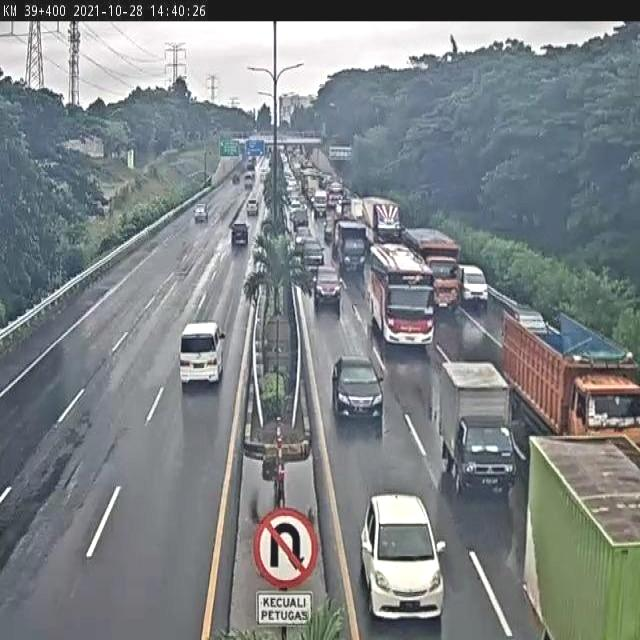Car: (358, 492, 444, 622), (323, 346, 395, 435), (457, 264, 488, 311), (314, 264, 342, 310), (230, 222, 248, 246)
Truck: (524, 437, 639, 638), (500, 309, 637, 462), (436, 360, 516, 497), (364, 241, 434, 348), (248, 444, 319, 546), (402, 228, 461, 310), (180, 320, 227, 384), (261, 315, 293, 381), (360, 197, 401, 245), (333, 218, 368, 274), (502, 296, 548, 338), (299, 234, 324, 272), (328, 128, 353, 161), (244, 436, 268, 461), (324, 101, 339, 139), (281, 135, 323, 148), (327, 182, 344, 211), (262, 455, 280, 481), (88, 283, 113, 301), (290, 250, 305, 279), (349, 197, 366, 222), (290, 207, 308, 230), (336, 195, 352, 219), (283, 201, 295, 233), (501, 301, 520, 321), (325, 203, 338, 232), (93, 198, 111, 218), (313, 189, 328, 213), (255, 148, 270, 172), (324, 216, 336, 243), (193, 204, 209, 223), (302, 274, 314, 299), (248, 139, 264, 157), (261, 215, 274, 237), (294, 233, 306, 256), (295, 226, 311, 243), (36, 158, 60, 169), (246, 196, 259, 216), (285, 190, 298, 209), (255, 259, 268, 278), (291, 160, 303, 180), (322, 173, 334, 193), (234, 138, 248, 155), (272, 142, 286, 157), (274, 136, 295, 146), (177, 264, 190, 279), (300, 159, 312, 174), (246, 157, 256, 174), (239, 170, 249, 187), (290, 147, 303, 160), (244, 172, 254, 188), (127, 148, 134, 170), (260, 166, 268, 183), (280, 152, 288, 169), (308, 129, 321, 139), (299, 146, 308, 159), (229, 220, 238, 233), (309, 205, 316, 221), (211, 127, 220, 139), (204, 174, 212, 186), (266, 147, 273, 159), (232, 174, 240, 184), (253, 128, 259, 136)
